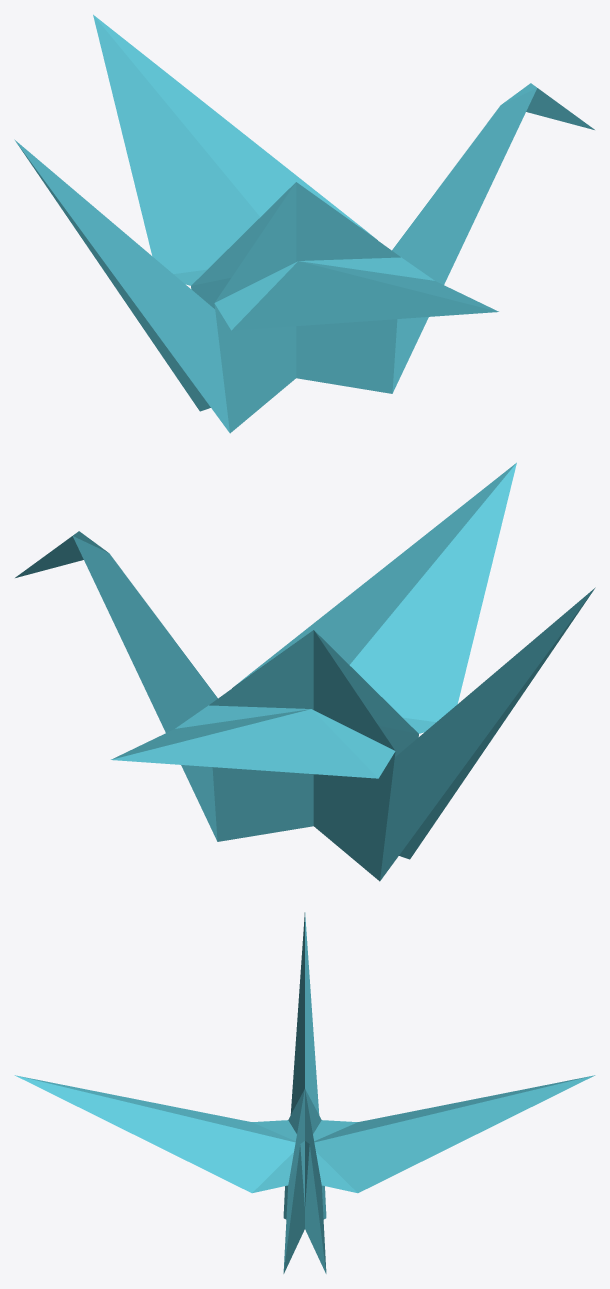
The model's file is origamiCrane.glb.
The picture shows the model from 3 angles, top to bottom: view 1: azimuth 30°, elevation 25°; view 2: azimuth 150°, elevation 25°; view 3: azimuth 270°, elevation 25°; orthographic projection. The views are drawn at different scales.
Parts seen in each view (by area): view 1: Plane; view 2: Plane; view 3: Plane.
Boxes of the visible parts, <box> form: Plane: <box>14,14,594,433</box>; Plane: <box>15,462,595,881</box>; Plane: <box>14,912,595,1273</box>.
Size of the model in its own units: 2.56 by 1.4 by 3.09.
